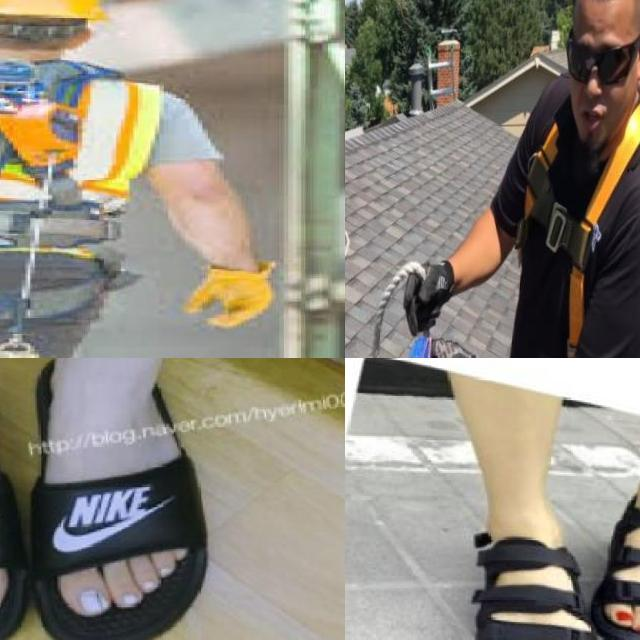Harness: (0, 56, 141, 341), (521, 109, 640, 358)
Sandals: (471, 522, 621, 640), (584, 506, 640, 640)
